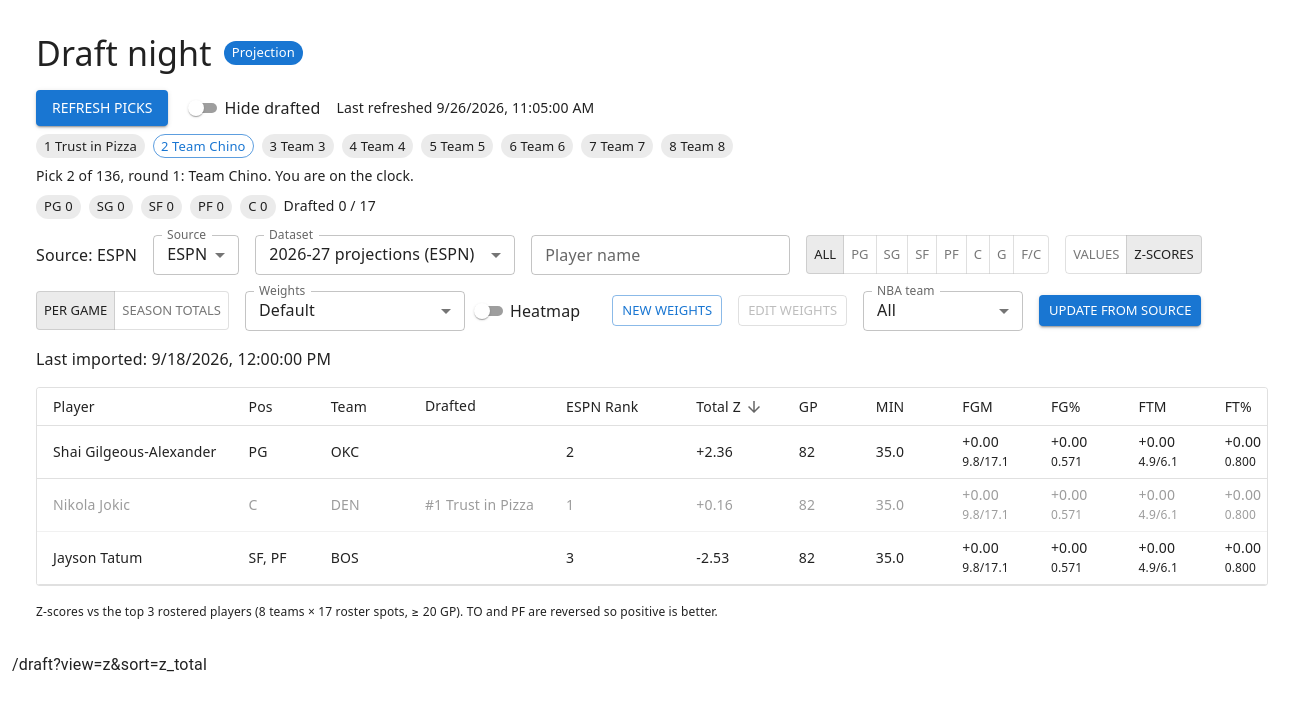
Test: shows the order strip and whose pick it is, then updates after a refresh
The width and height of the screenshot is (1292, 720).
Expected: the text "Pick 2 of 136, round 1: Team Chino. You are on the clock." is shown, [36,166,414,186]
Click the button "Refresh picks" at x=102, y=108, box [36,90,168,126]
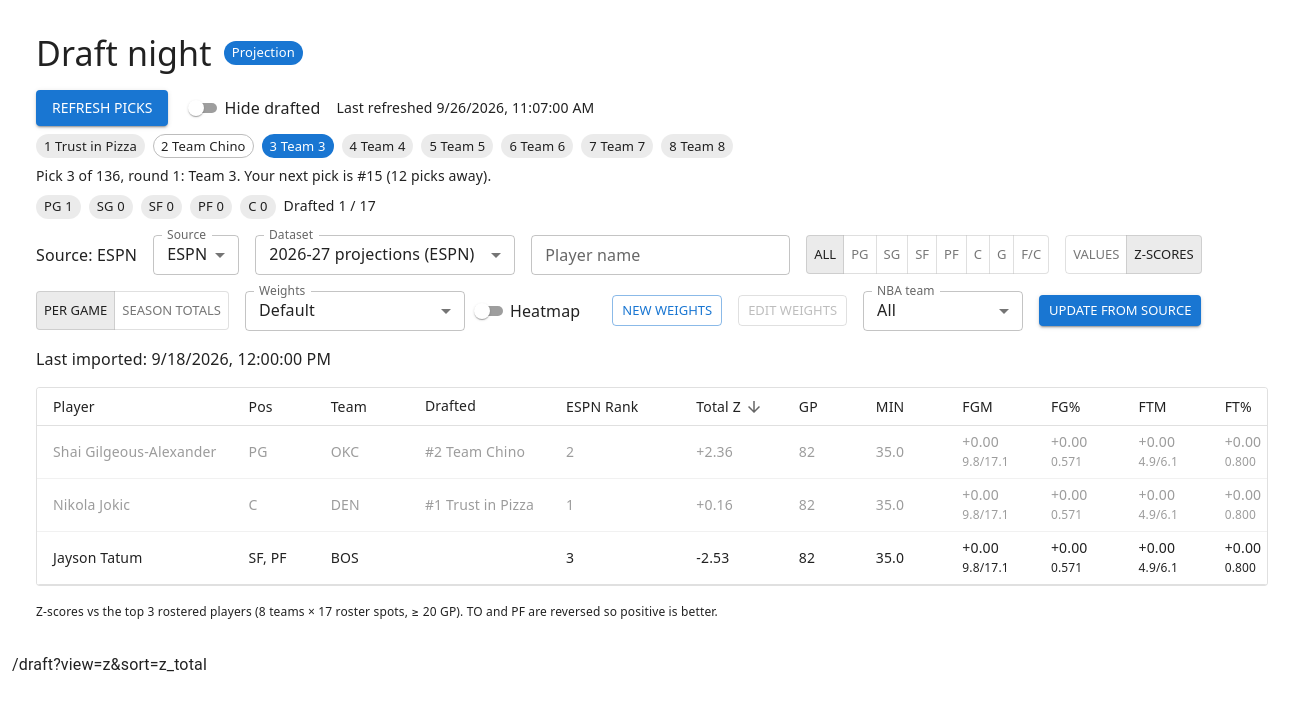
Now the text "Pick 3 of 136, round 1: Team 3. Your next pick is #15 (12 picks away)." is shown, box [36,166,491,186]
